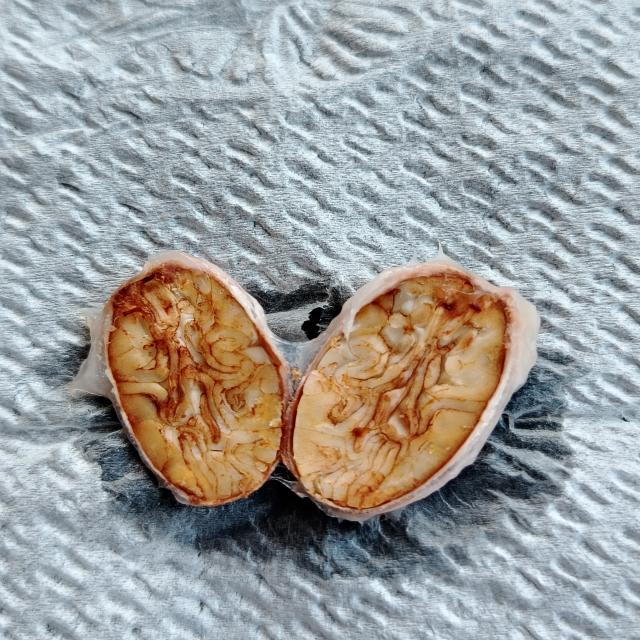Criollo: (290, 264, 533, 514), (104, 256, 279, 506)
